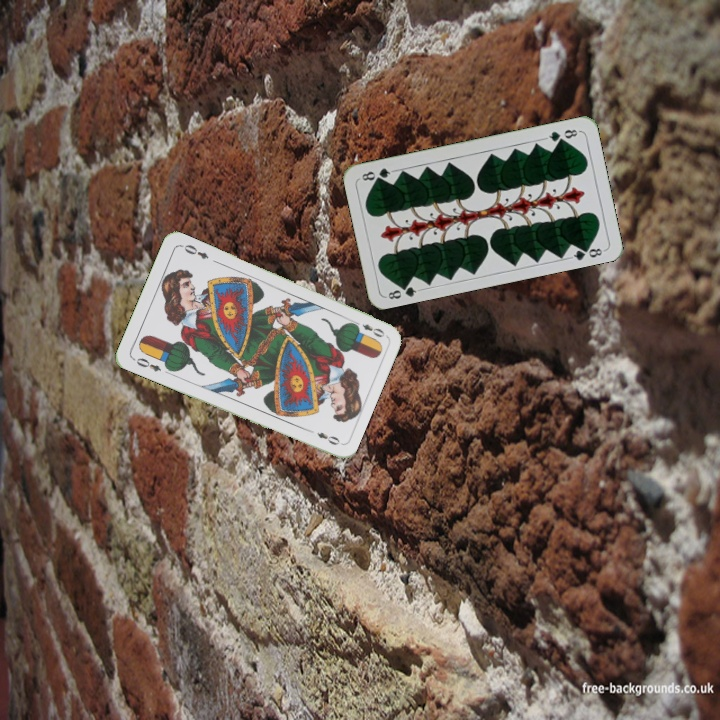EO: (349, 316, 387, 340), (129, 354, 164, 374)
G8: (383, 279, 423, 302), (542, 125, 582, 144)
